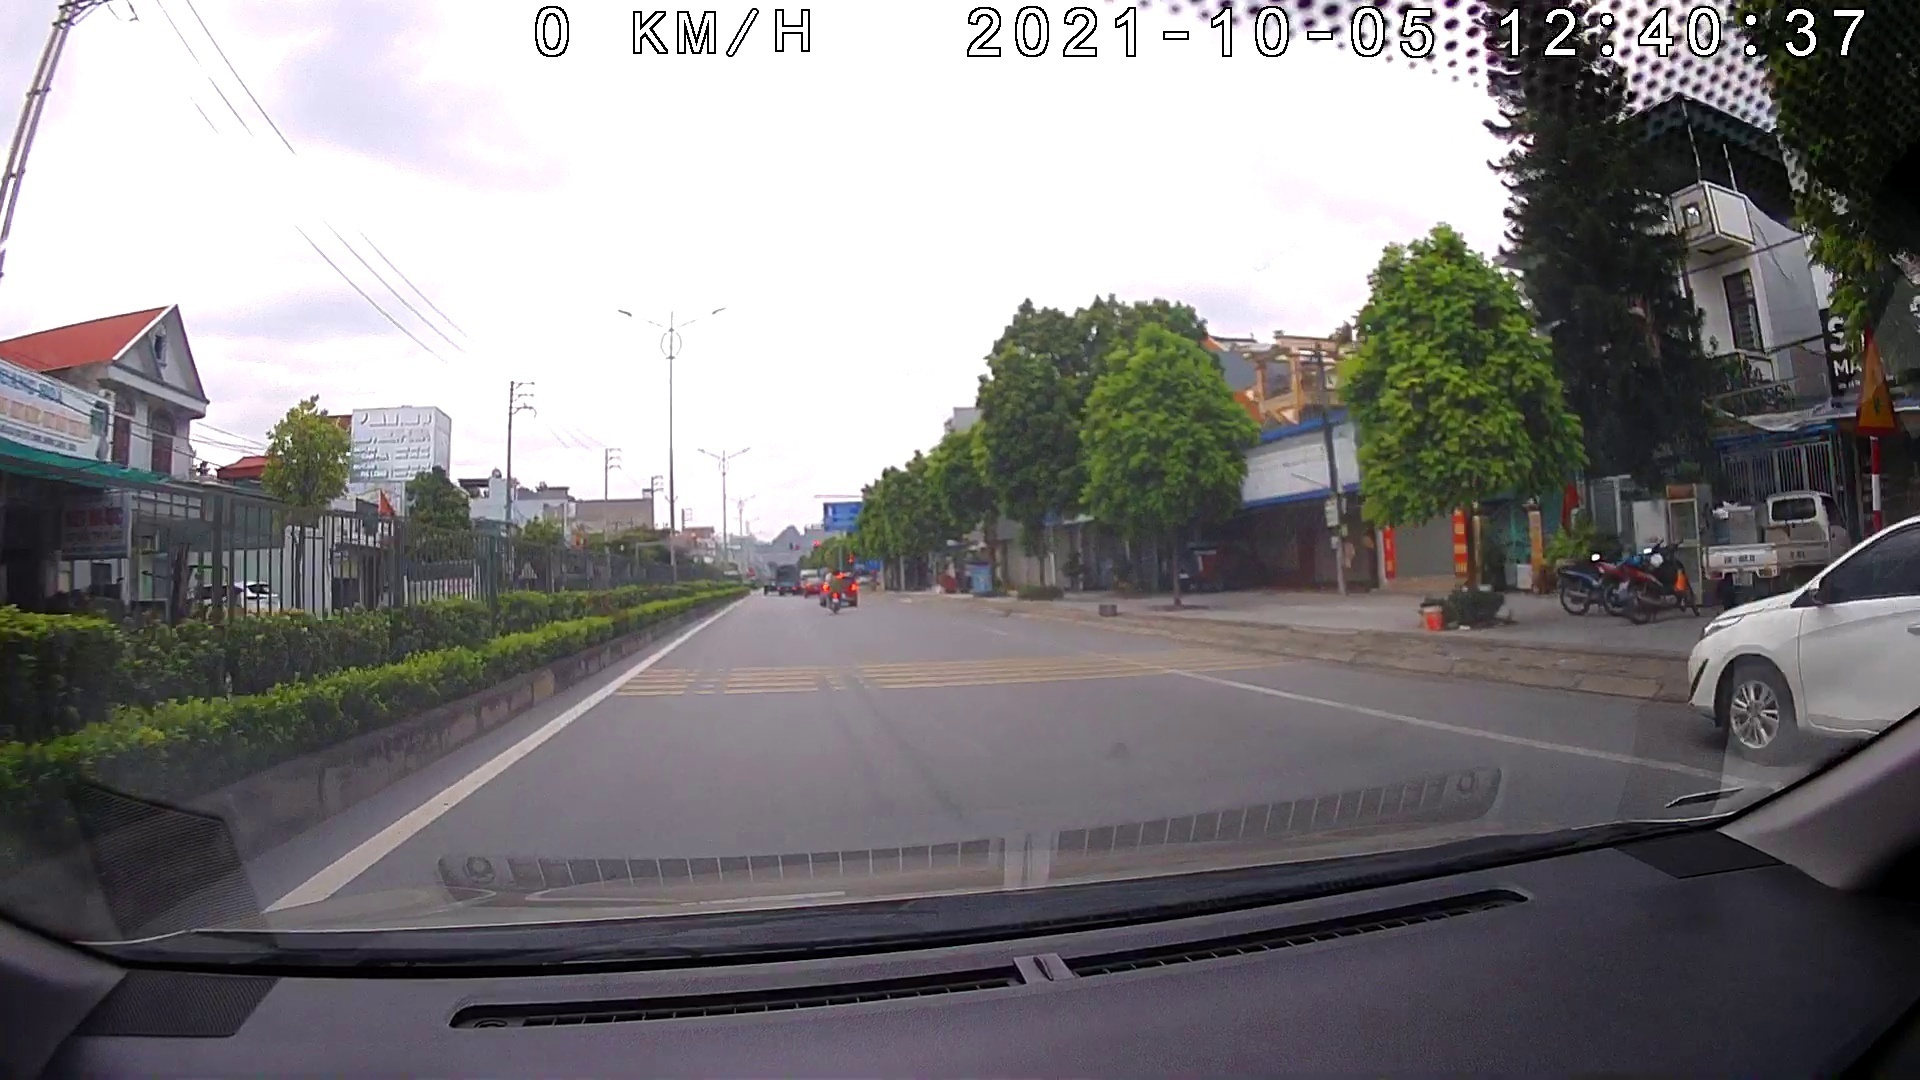Bien khac: (1849, 334, 1902, 436)
